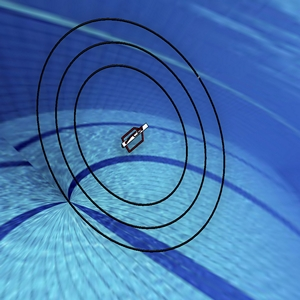circle: (27, 5, 245, 265)
submarine: (106, 113, 155, 160)
